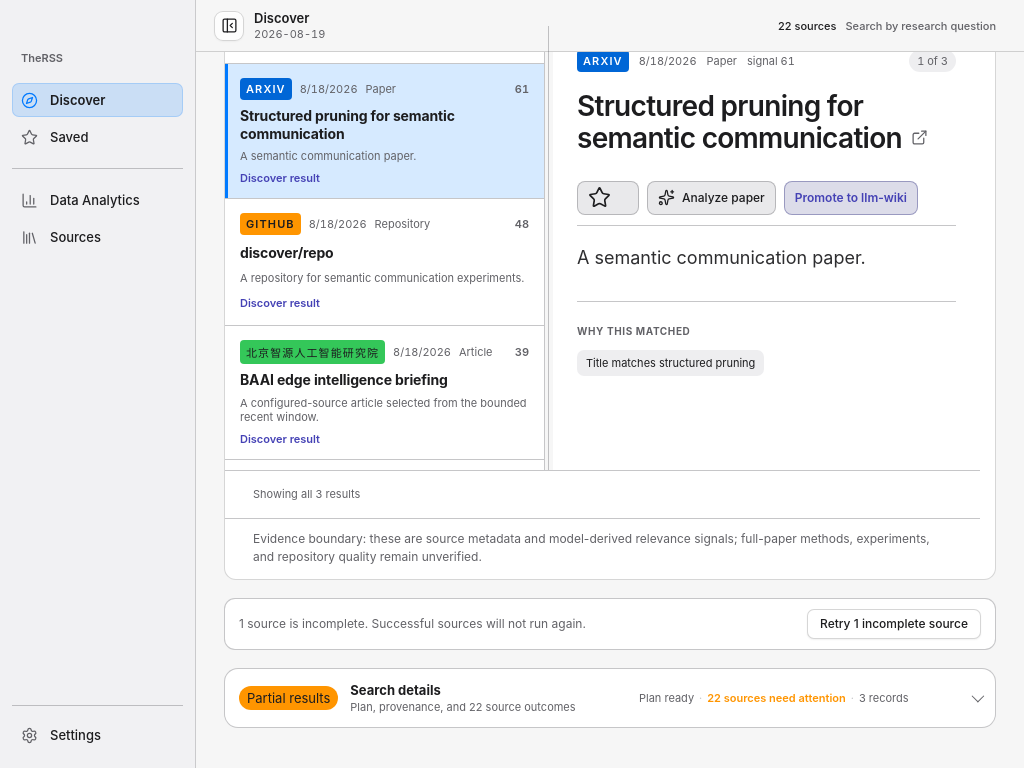
Test: App › retries only failed or partial sources without starting a new planner search
(page scrolled)
Click the button "Retry 1 incomplete source": (894, 624) x1=807 y1=609 x2=981 y2=639
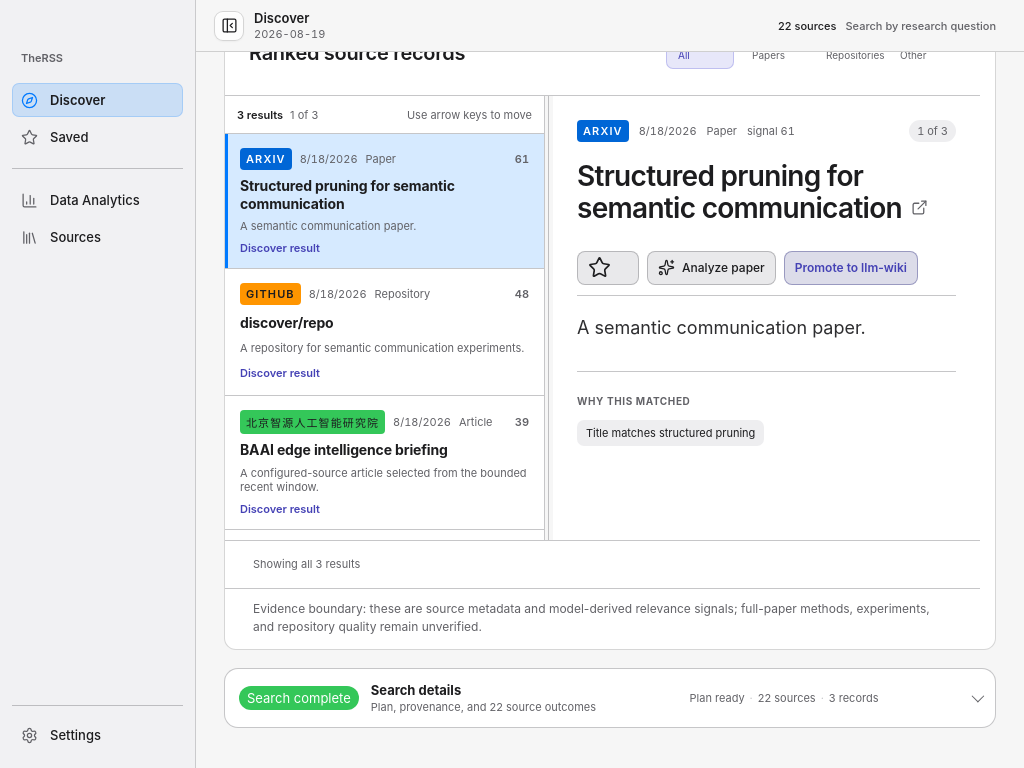
Expected: the text "Search complete" is shown, x1=239 y1=686 x2=359 y2=710
